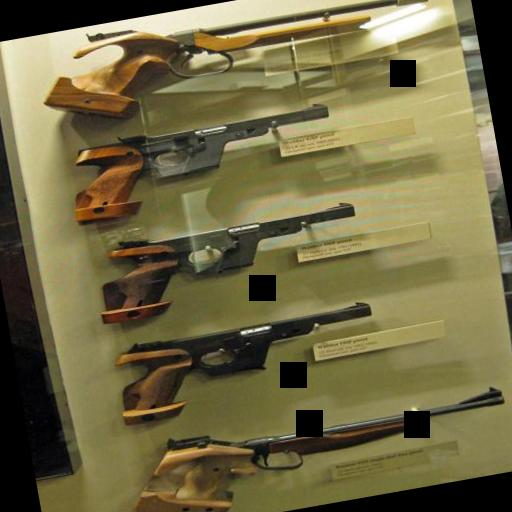Handgun: (124, 377, 512, 512), (41, 0, 442, 128), (96, 292, 396, 430), (89, 188, 366, 328), (60, 95, 344, 223)
